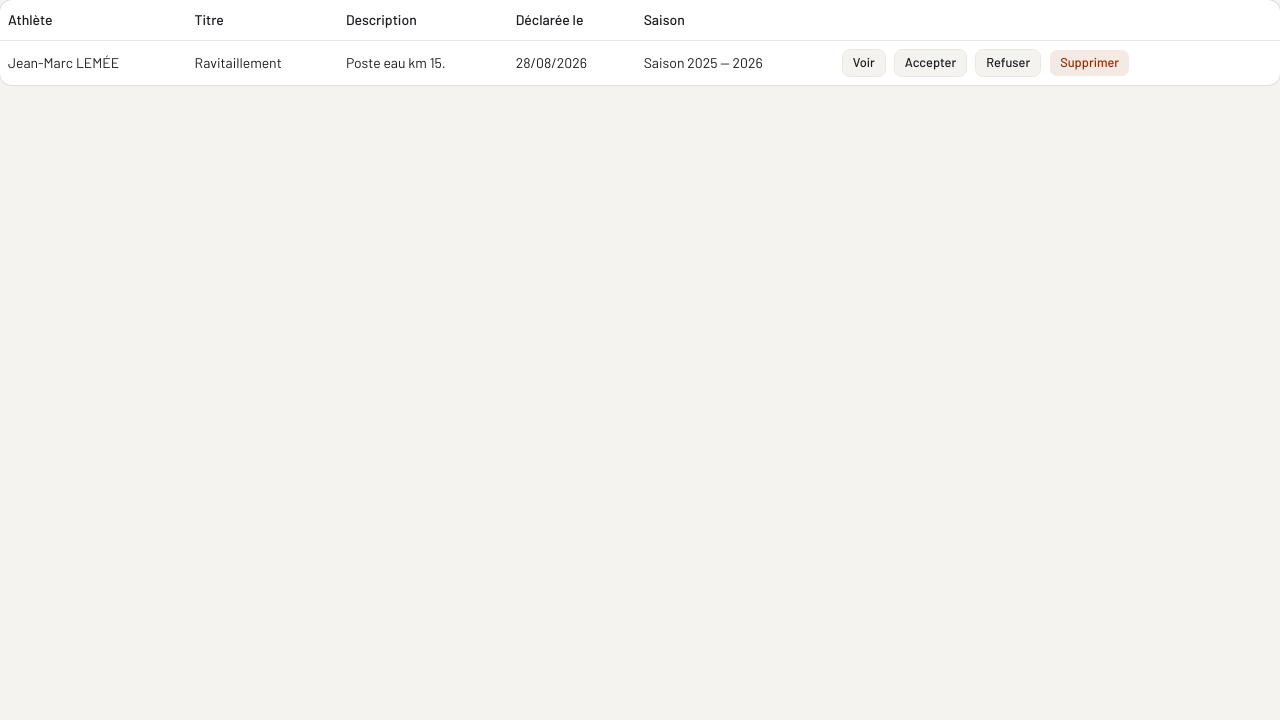
AdminVolunteerActionsTable › supprimer demande une confirmation avant d'agir
Click the button "Supprimer": x=1090, y=62 [1049,48,1130,76]
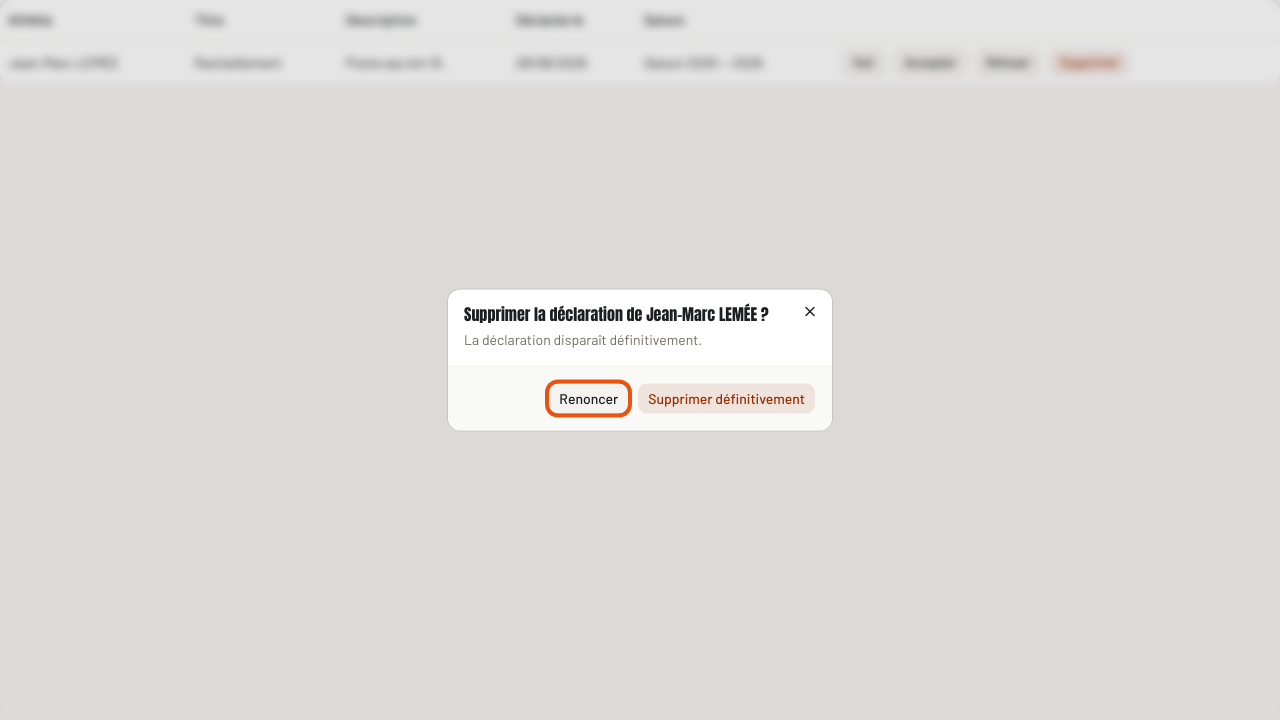
Check: the dialog is shown, box [448,290,832,430]
